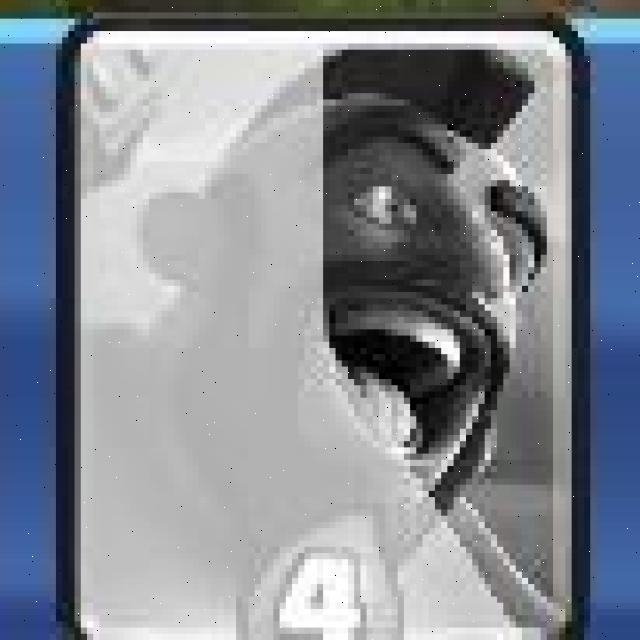Hog_Rider: (54, 13, 591, 640)
